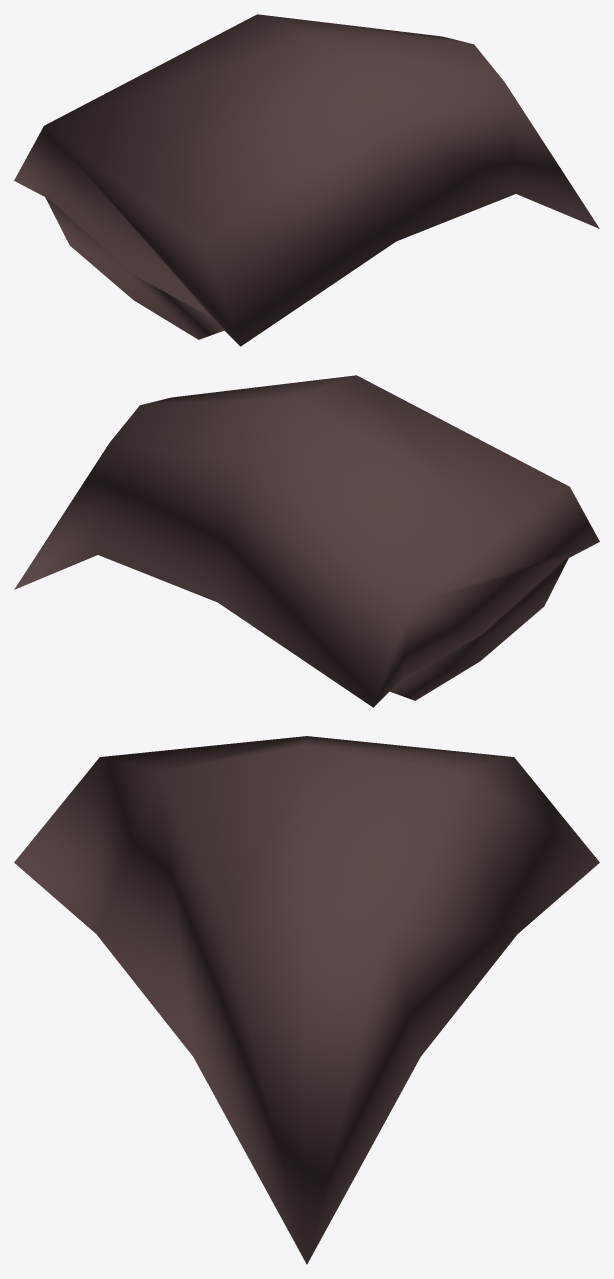
The model's file is beak2.fbx.
The picture shows the model from 3 angles, top to bottom: view 1: azimuth 30°, elevation 25°; view 2: azimuth 150°, elevation 25°; view 3: azimuth 270°, elevation 25°; orthographic projection. The views are drawn at different scales.
Parts seen in each view (by area): view 1: beak2; view 2: beak2; view 3: beak2.
Boxes of the visible parts, <box> form: beak2: <box>14,14,599,346</box>; beak2: <box>14,375,599,707</box>; beak2: <box>14,736,599,1264</box>.
Bounding box in the file's own units: 0.4808 × 0.5843 × 0.3067.
